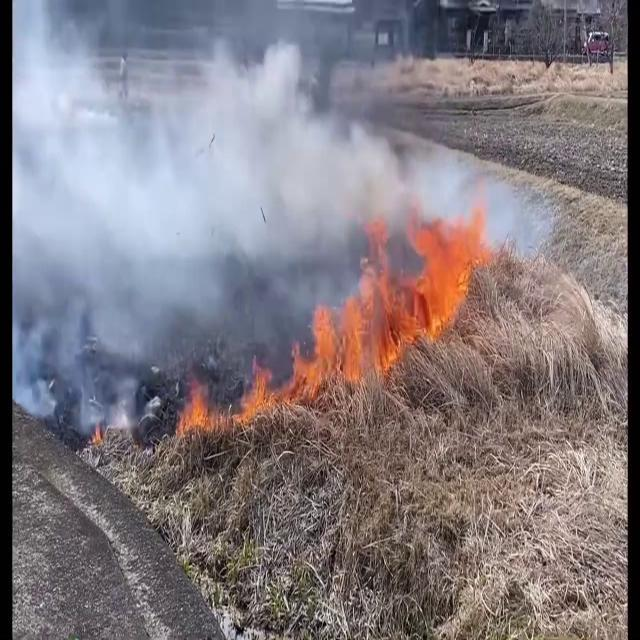Fire: (406, 194, 494, 340), (175, 354, 298, 444), (176, 378, 220, 446)
Smoke: (13, 0, 434, 423)
